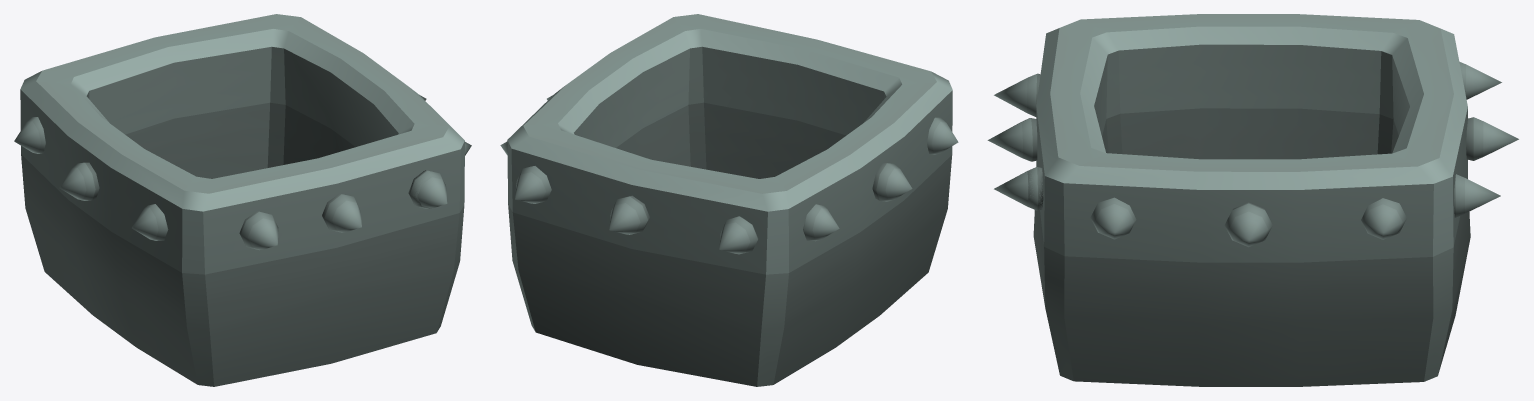
File: orc_bucket.fbx
3 renders of one model, left to right at view 1: azimuth 30°, elevation 25°; view 2: azimuth 150°, elevation 25°; view 3: azimuth 270°, elevation 25°, orthographic. The views are drawn at different scales.
Parts seen in each view (by area): view 1: orc_bucket; view 2: orc_bucket; view 3: orc_bucket.
Boxes of the visible parts, left/top/right/bottom form: orc_bucket: left=14, top=14, right=471, bottom=386; orc_bucket: left=500, top=14, right=958, bottom=386; orc_bucket: left=987, top=14, right=1518, bottom=386.
Bounding box in the file's own units: 225 × 115 × 248.
